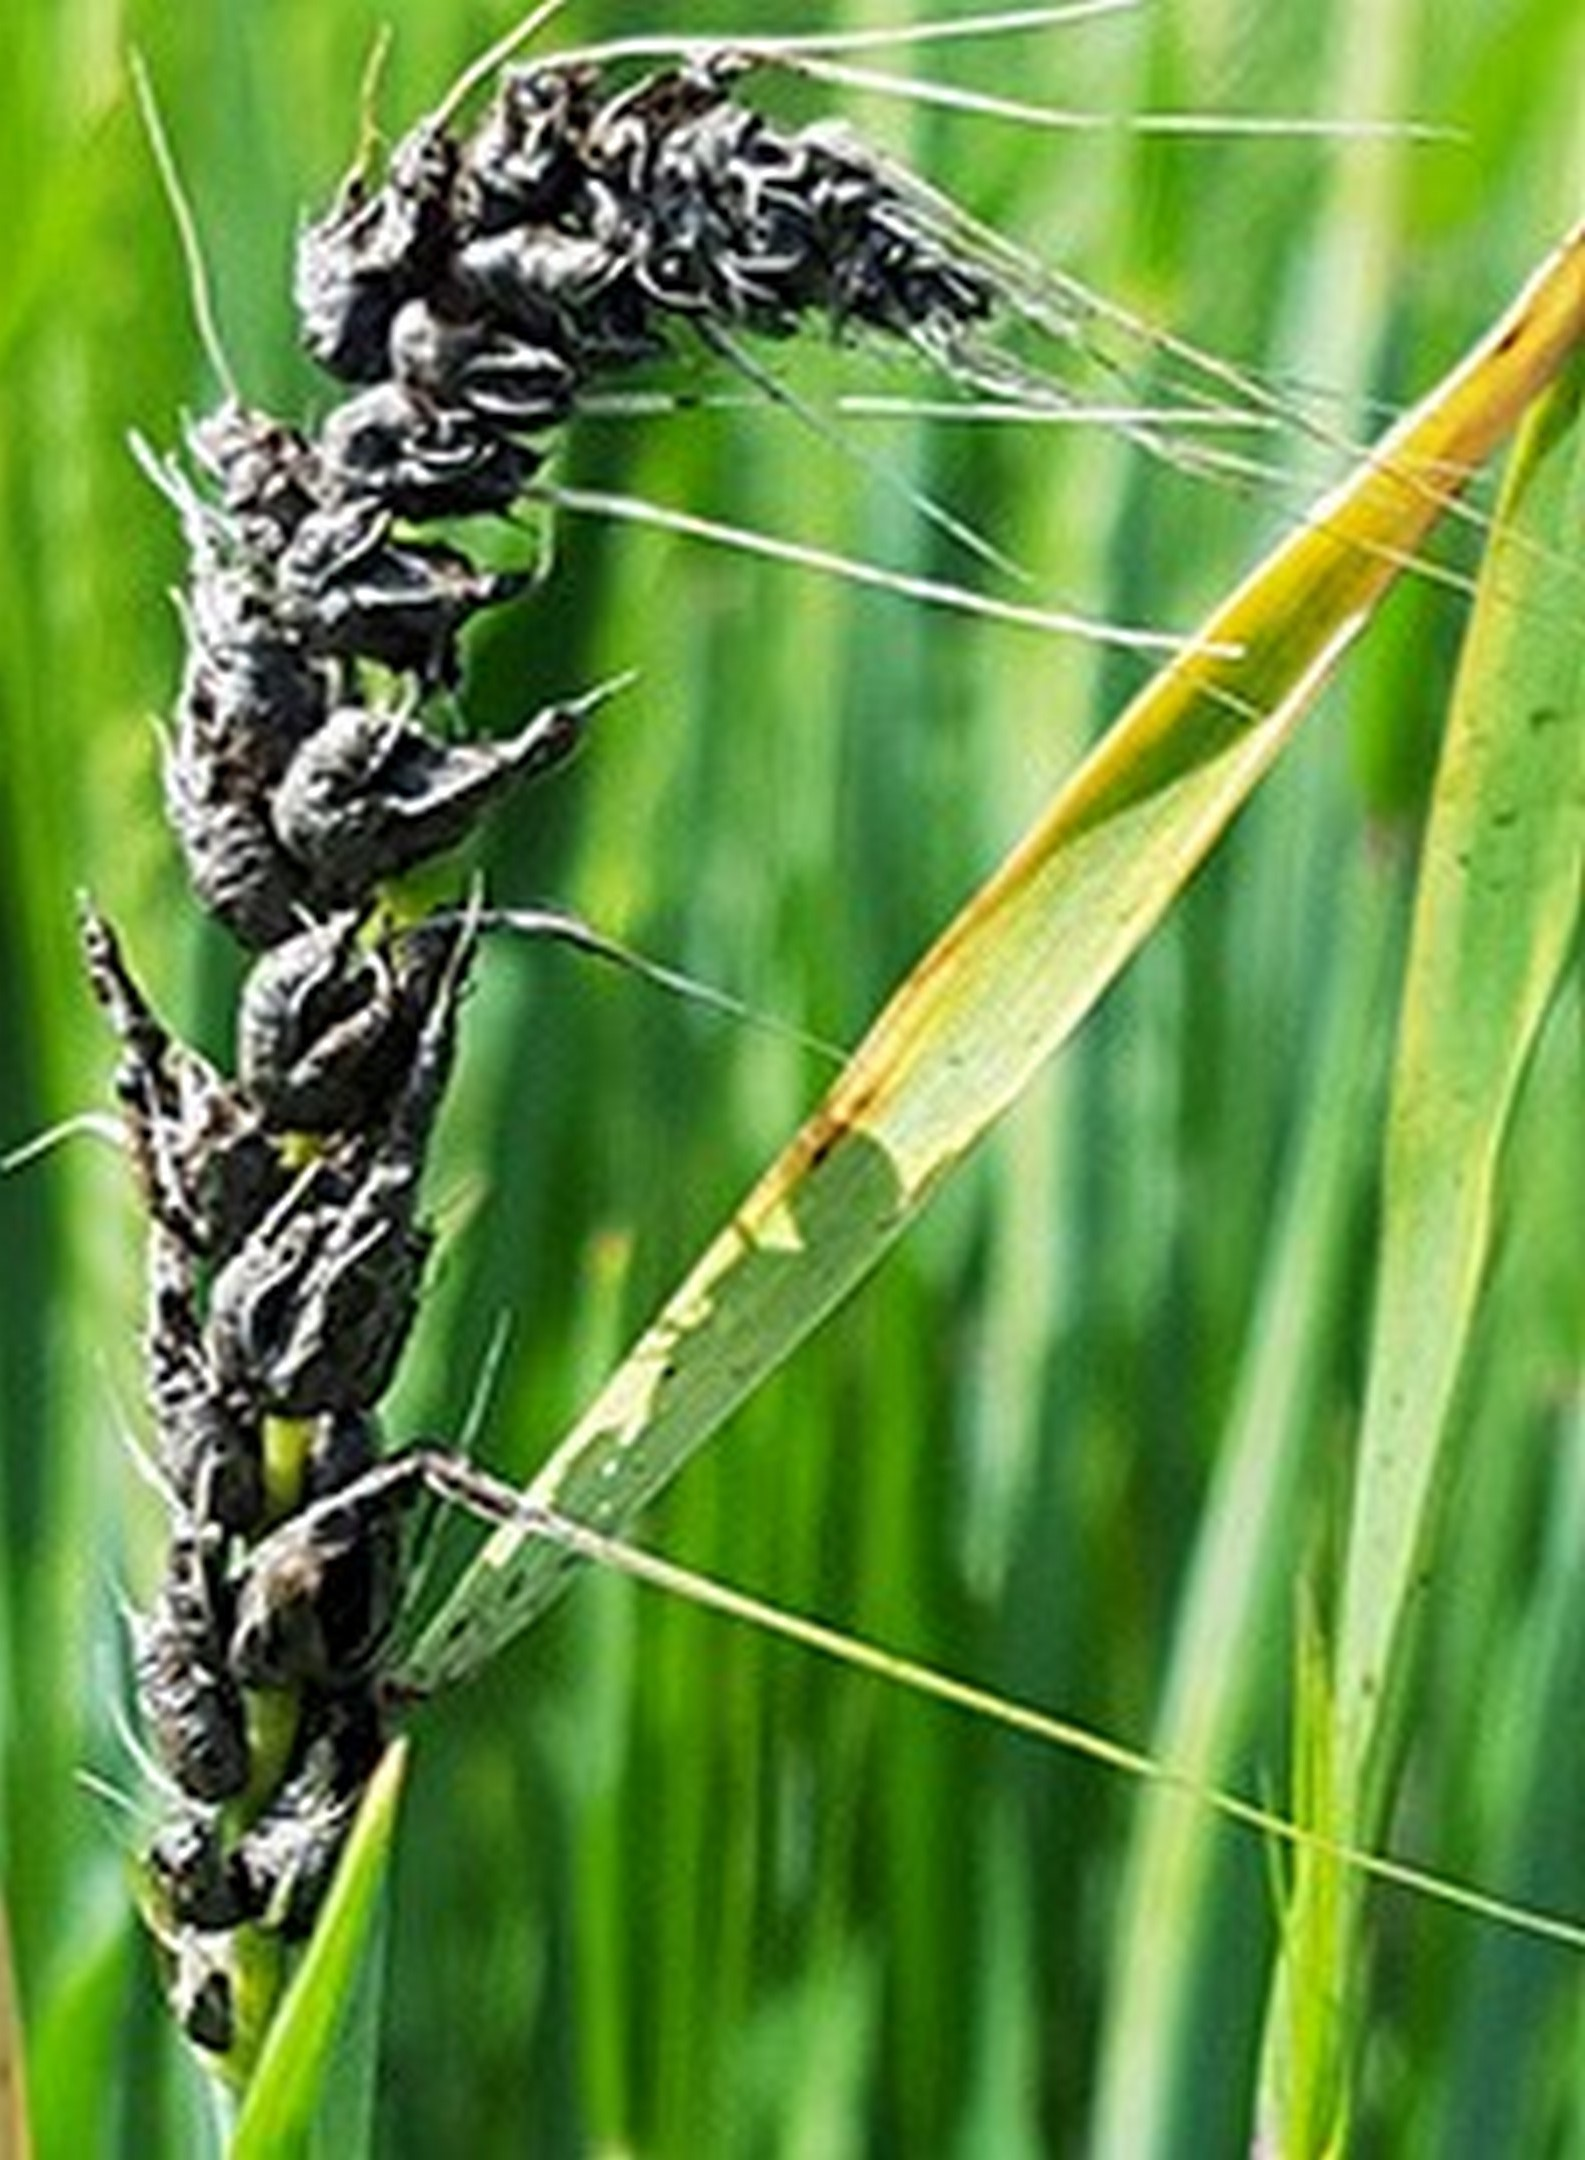Wheat Loose Smut: (106, 2, 1030, 1873)
